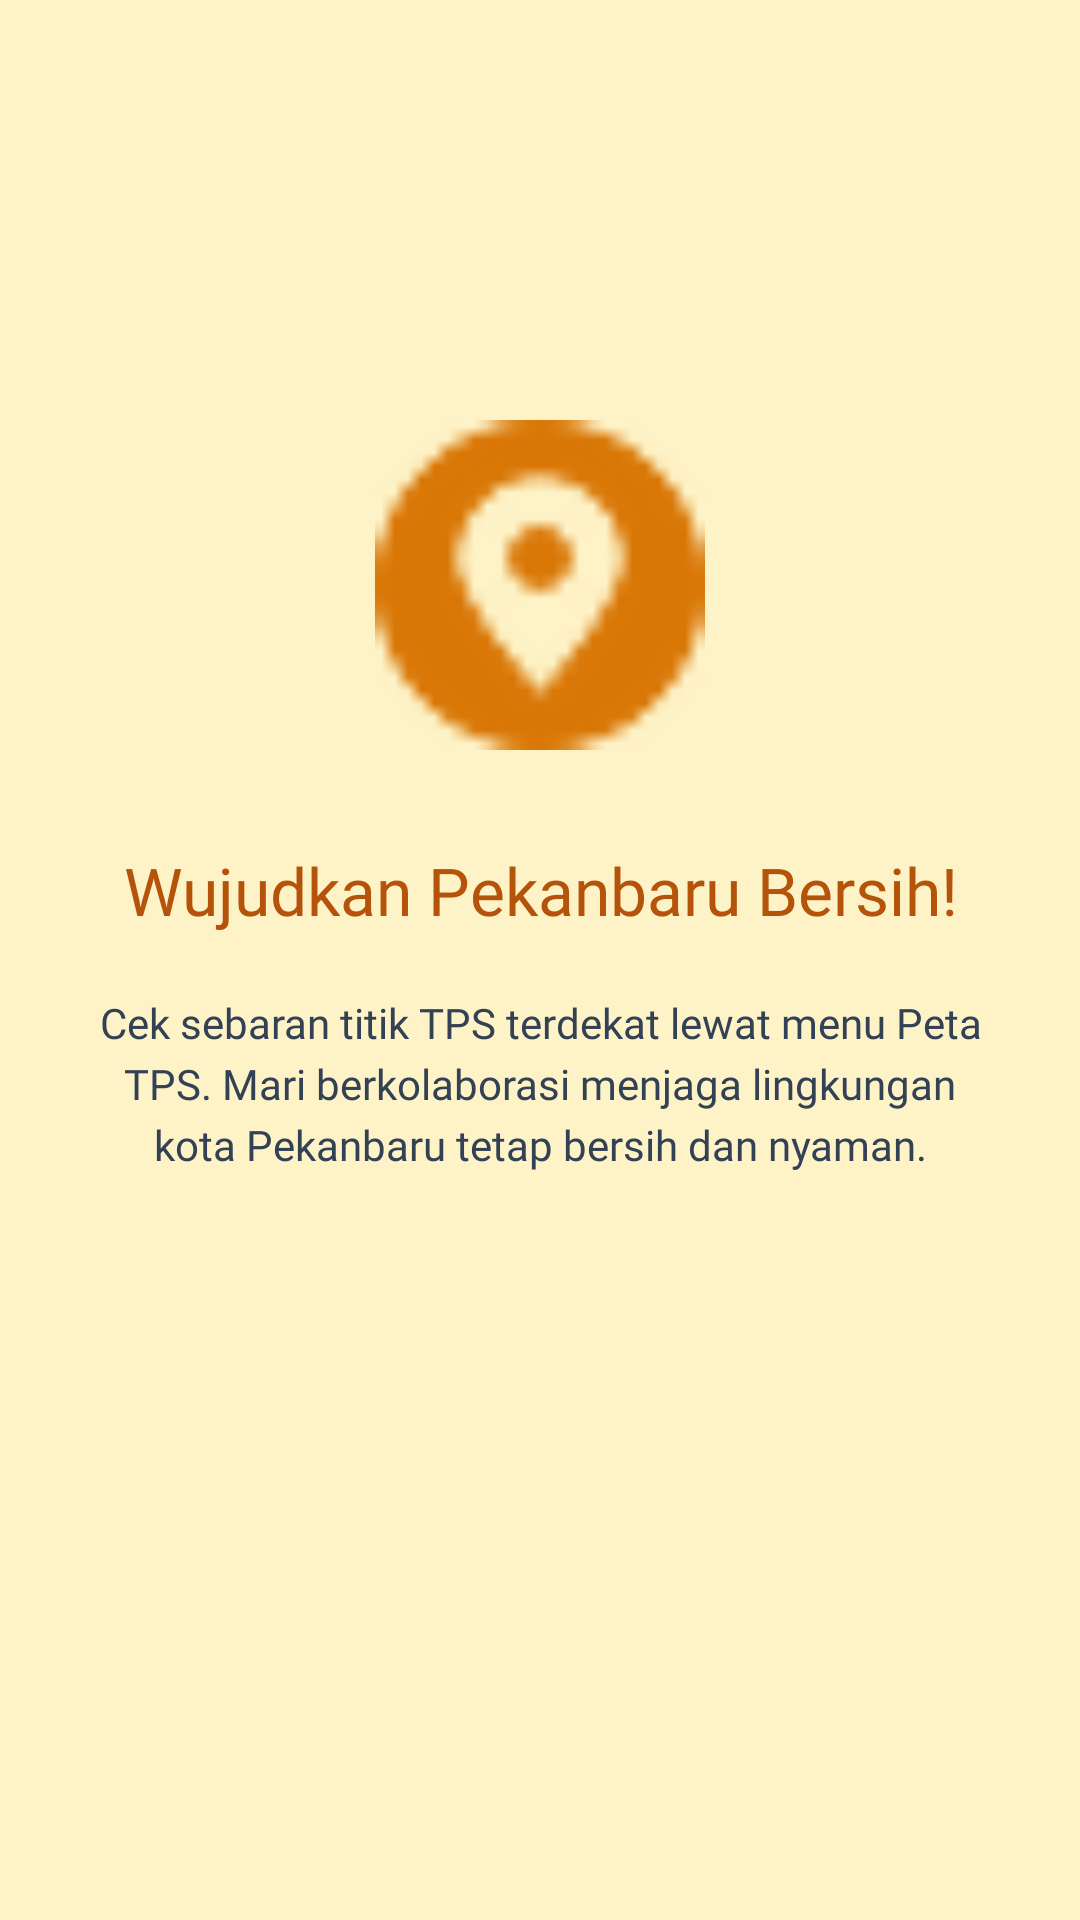

Where to tap for icons on this 1080 × 1920 app screen, as point (x, y):
peta: point (540, 585)
